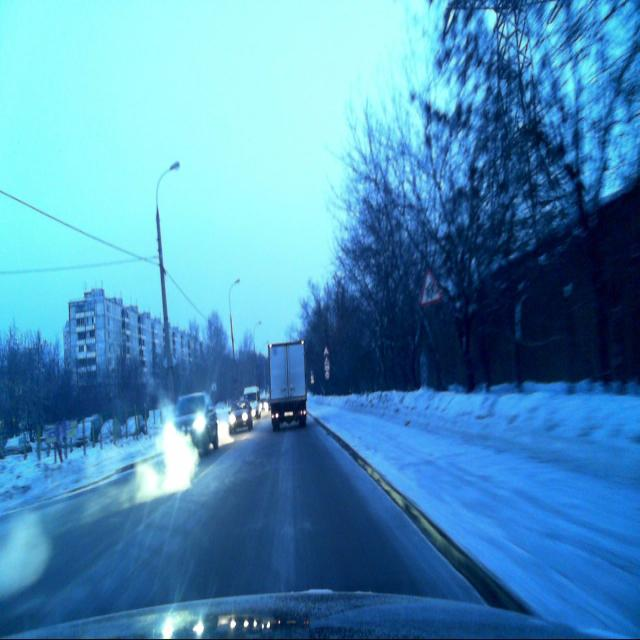road sign: (420, 266, 441, 307)
